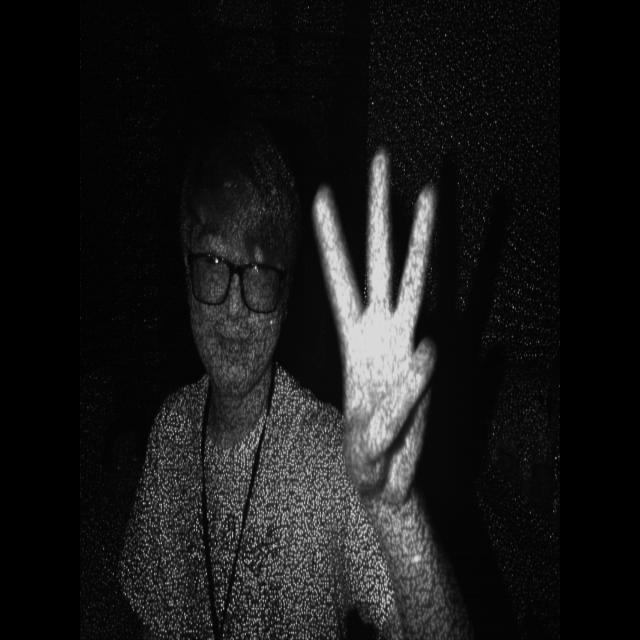W: (314, 142, 438, 528)
